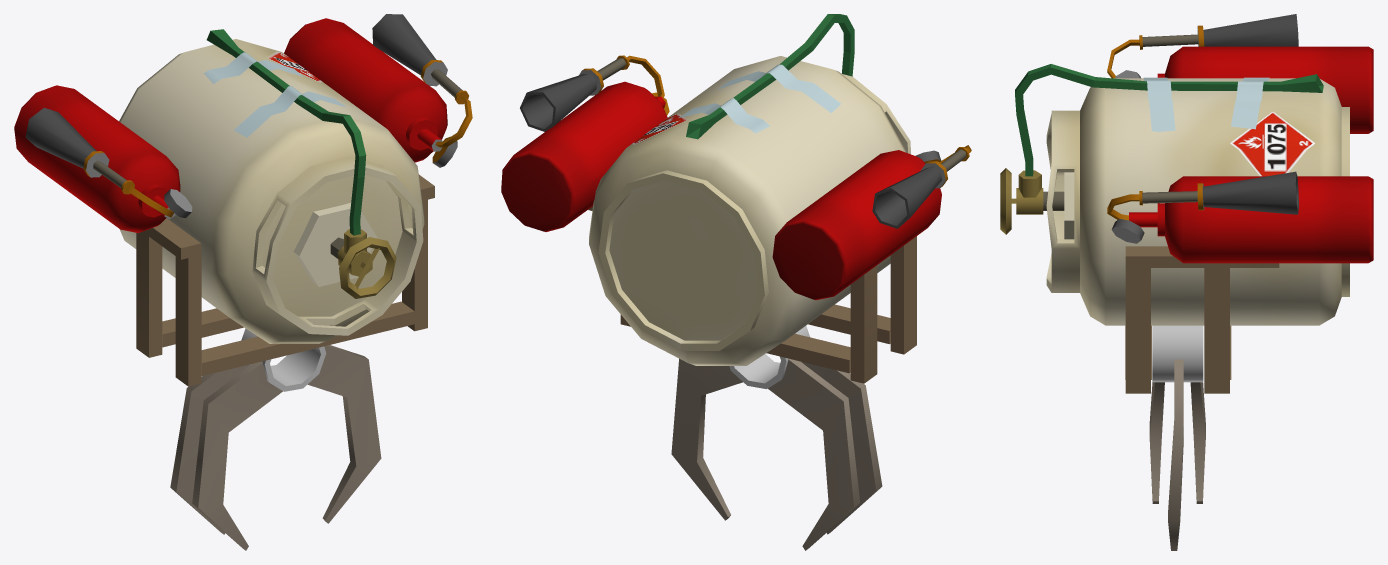
The model's file is env_propainJetPack 1.fbx.
3 renders of one model, left to right at view 1: azimuth 30°, elevation 25°; view 2: azimuth 150°, elevation 25°; view 3: azimuth 270°, elevation 25°, orthographic.
Visible parts, largest first — view 1: propainTank1; view 2: propainTank1; view 3: propainTank1.
Part boxes in pixels (left/top/right/bottom): propainTank1: left=14, top=14, right=472, bottom=550; propainTank1: left=501, top=14, right=971, bottom=550; propainTank1: left=1000, top=14, right=1373, bottom=550.
Size of the model in its own units: 23.52 by 27.05 by 19.68.
